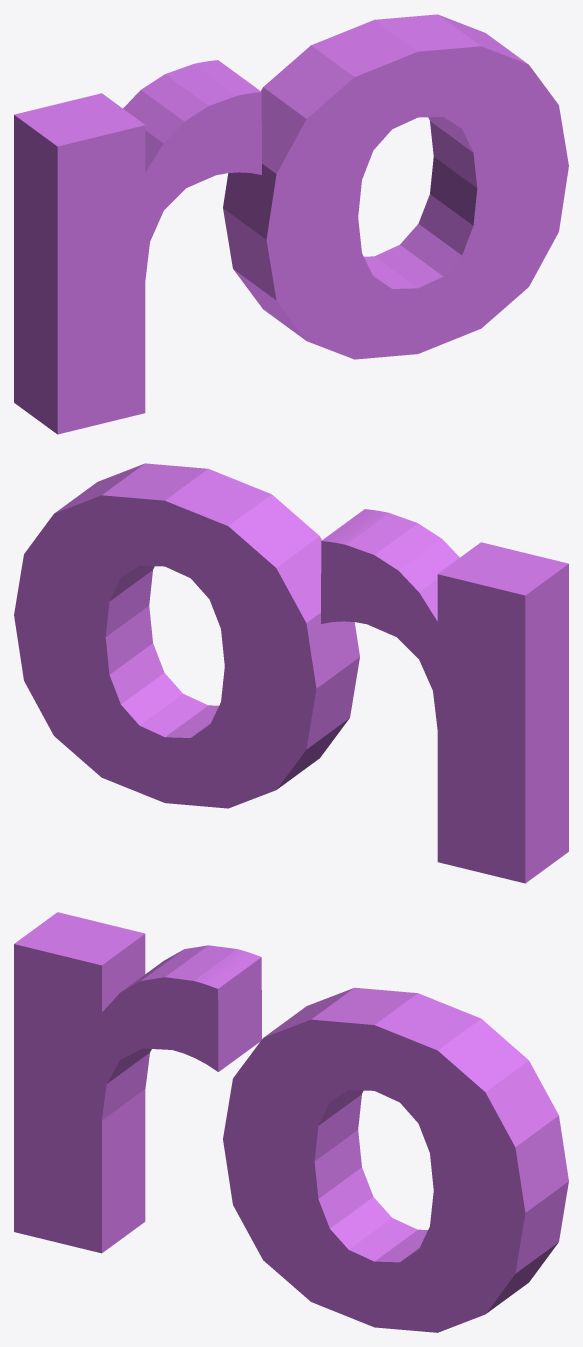
Rendered from suku_kecil_ro.glb.
3 renders of one model, top to bottom at view 1: azimuth 30°, elevation 25°; view 2: azimuth 150°, elevation 25°; view 3: azimuth 330°, elevation 25°, orthographic.
Parts seen in each view (by area): view 1: geometry_0; view 2: geometry_0; view 3: geometry_0.
Part boxes in pixels (left/top/right/bottom): geometry_0: left=14, top=14, right=568, bottom=434; geometry_0: left=14, top=463, right=568, bottom=883; geometry_0: left=14, top=912, right=568, bottom=1332.
Bounding box in the file's own units: 10.16 × 5.74 × 1.5.
